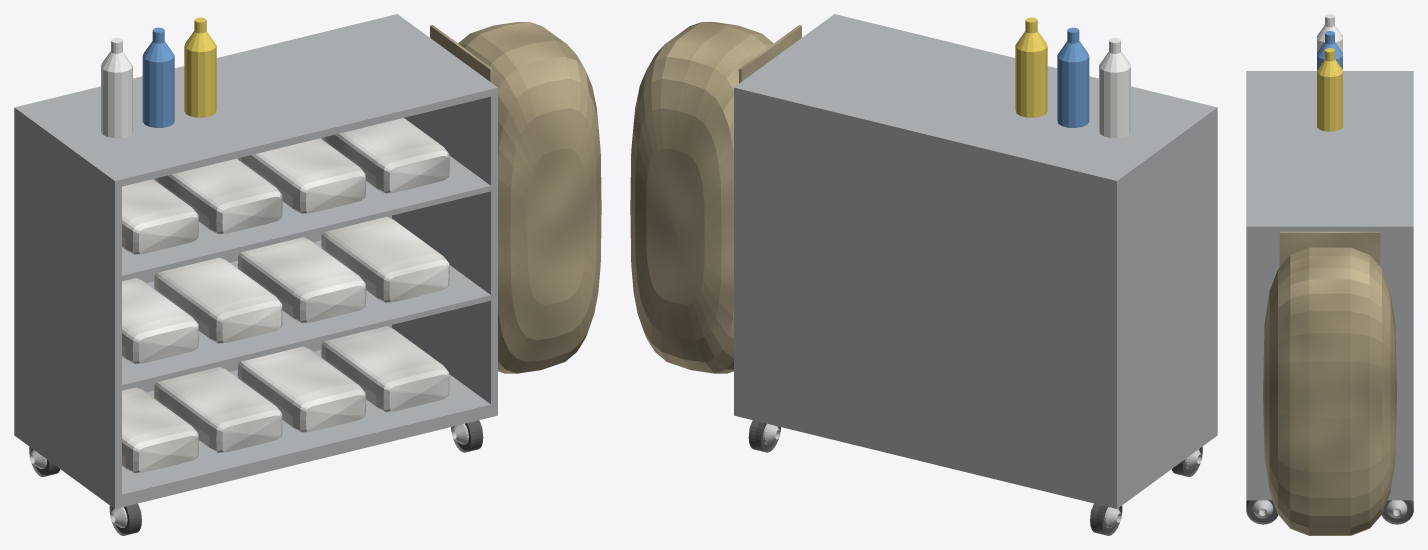
The model's file is carrinho_camareira.glb.
3 renders of one model, left to right at view 1: azimuth 30°, elevation 25°; view 2: azimuth 150°, elevation 25°; view 3: azimuth 270°, elevation 25°, orthographic. The views are drawn at different scales.
Visible parts, largest first — view 1: carrinho_camareira_plastico_cinza, carrinho_camareira_lencol, carrinho_camareira_travesseiro, carrinho_camareira_lona_crua, carrinho_camareira_tinta_amarela, carrinho_camareira_plastico_azul, carrinho_camareira_plastico_branco, carrinho_camareira_borracha, carrinho_camareira_aco; view 2: carrinho_camareira_plastico_cinza, carrinho_camareira_lona_crua, carrinho_camareira_tinta_amarela, carrinho_camareira_plastico_azul, carrinho_camareira_plastico_branco, carrinho_camareira_borracha, carrinho_camareira_aco; view 3: carrinho_camareira_plastico_cinza, carrinho_camareira_lona_crua, carrinho_camareira_tinta_amarela, carrinho_camareira_borracha, carrinho_camareira_aco, carrinho_camareira_plastico_branco, carrinho_camareira_plastico_azul.
Part boxes in pixels (x1,y1,x2,y2): carrinho_camareira_plastico_cinza: (14,14,497,508); carrinho_camareira_lencol: (122,118,449,452); carrinho_camareira_travesseiro: (122,138,449,473); carrinho_camareira_lona_crua: (430,22,601,373); carrinho_camareira_tinta_amarela: (184,17,216,117); carrinho_camareira_plastico_azul: (142,27,174,127); carrinho_camareira_plastico_branco: (101,38,132,138); carrinho_camareira_borracha: (29,420,483,535); carrinho_camareira_aco: (29,423,482,527); carrinho_camareira_plastico_cinza: (734,14,1217,508); carrinho_camareira_lona_crua: (630,22,801,373); carrinho_camareira_tinta_amarela: (1015,17,1047,117); carrinho_camareira_plastico_azul: (1057,27,1089,127); carrinho_camareira_plastico_branco: (1099,38,1130,138); carrinho_camareira_borracha: (748,420,1202,535); carrinho_camareira_aco: (749,423,1202,527); carrinho_camareira_plastico_cinza: (1246,71,1413,500); carrinho_camareira_lona_crua: (1263,231,1396,535); carrinho_camareira_tinta_amarela: (1317,48,1342,131); carrinho_camareira_borracha: (1246,500,1413,524); carrinho_camareira_aco: (1252,500,1407,518); carrinho_camareira_plastico_branco: (1317,14,1342,52); carrinho_camareira_plastico_azul: (1317,31,1342,69).
Size of the model in its own units: 1.48 by 1.25 by 0.5.
9 materials, 3 textured.
